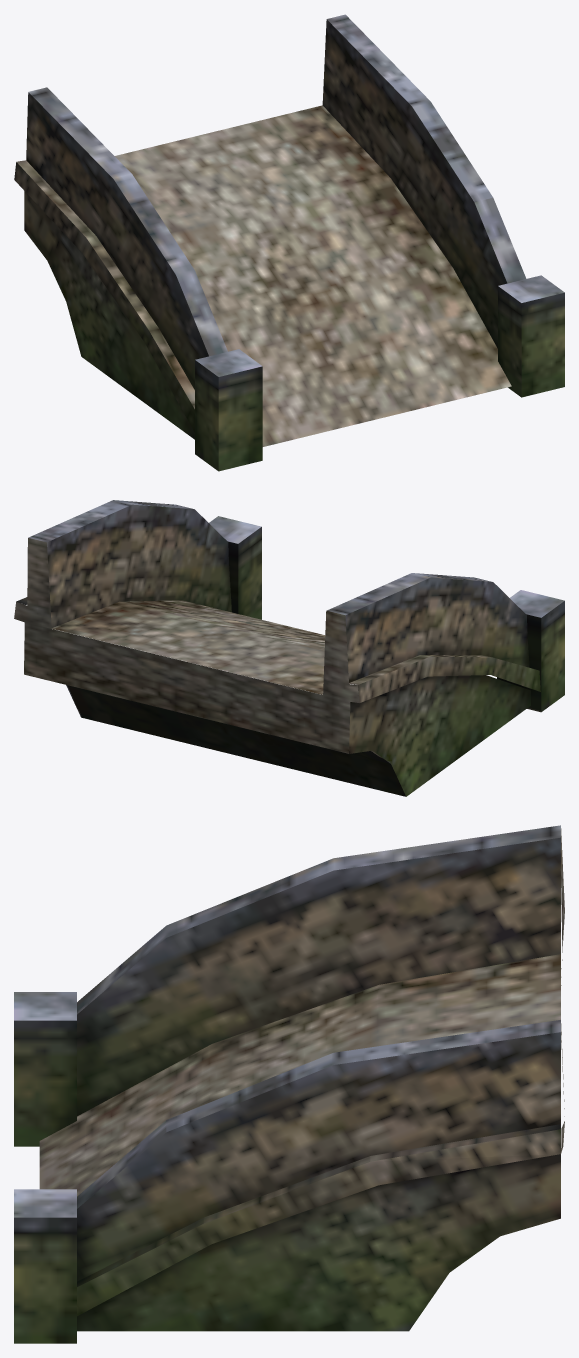
Rendered from building_bridge.glb.
3 renders of one model, top to bottom at view 1: azimuth 30°, elevation 25°; view 2: azimuth 150°, elevation 25°; view 3: azimuth 270°, elevation 25°, orthographic. The views are drawn at different scales.
Visible parts, largest first — view 1: building_bridge; view 2: building_bridge; view 3: building_bridge.
Boxes of the visible parts, x1,y1,x2,y2 form: building_bridge: [14, 14, 564, 471]; building_bridge: [14, 500, 564, 796]; building_bridge: [14, 825, 564, 1343].
Bounding box in the file's own units: 4.47 × 2.79 × 4.61.
Materials: 1 (1 with a texture image).
